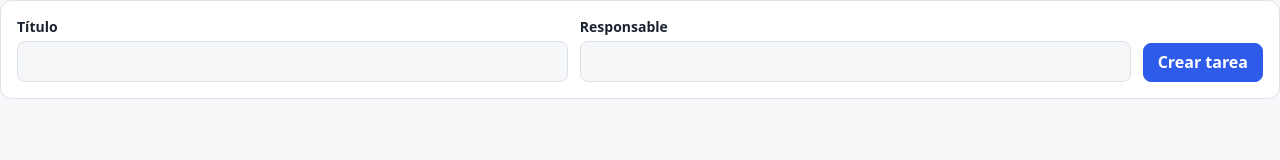
Test: TaskForm › válido: envía los textos recortados, vacía los campos y devuelve el foco al título
This screenshot has width=1280, height=160.
Type "  Comprar pan  " into the field labelled "Título" at (292, 62), box x1=17 y1=41 x2=568 y2=82
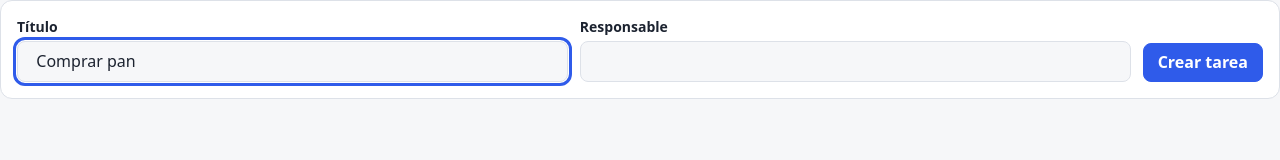
Type " Luis " into the field labelled "Responsable" at (855, 62), box x1=580 y1=41 x2=1131 y2=82
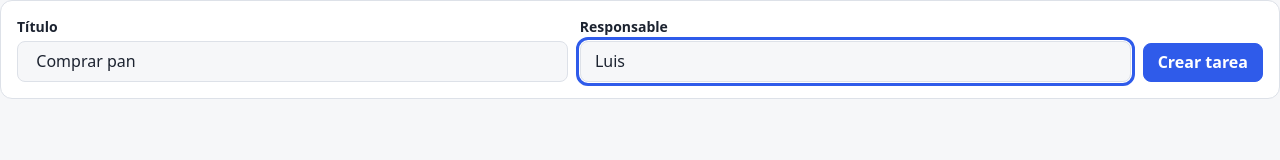
Click the button "Crear tarea" at (1203, 63), box x1=1143 y1=43 x2=1263 y2=82
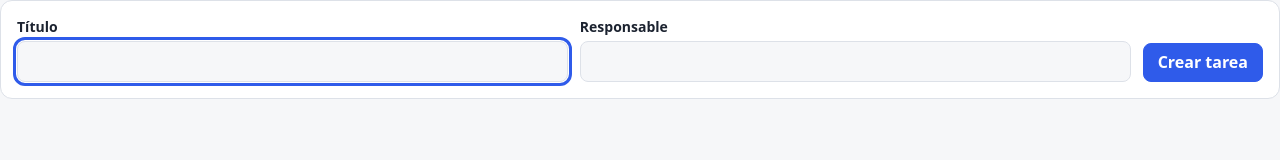
Expected: the field labelled "Título" is empty, x1=17 y1=41 x2=568 y2=82
Expected: the field labelled "Responsable" is empty, x1=580 y1=41 x2=1131 y2=82
